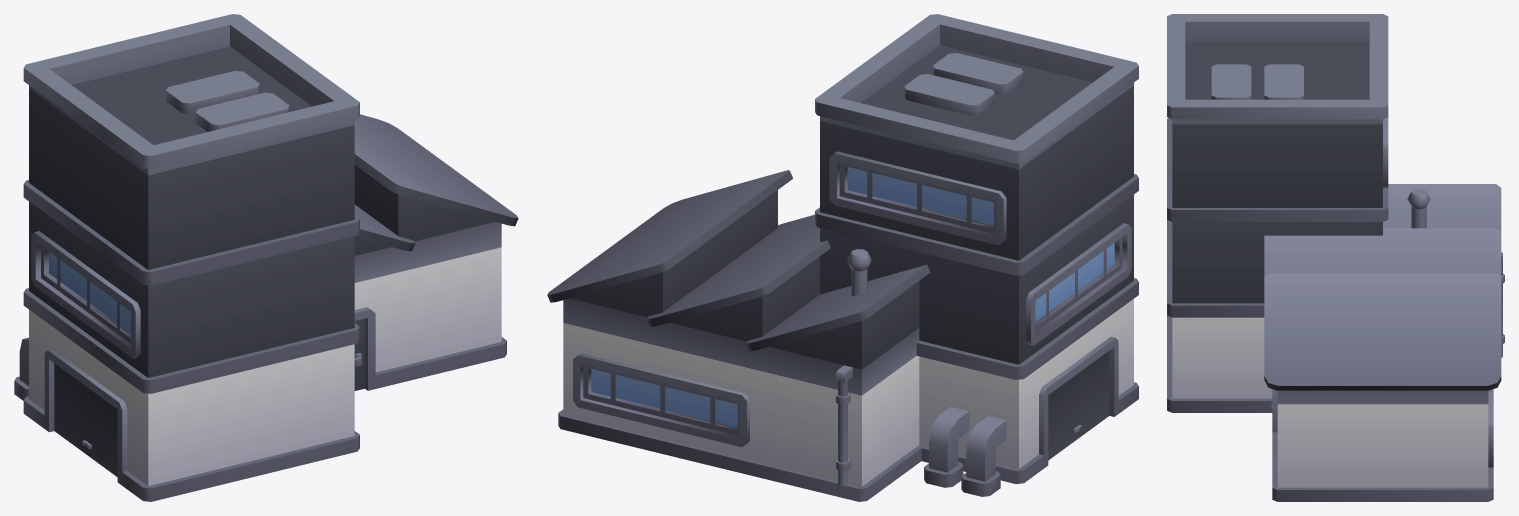
File: building-g.glb
3 views of the same model, side by side, from view 1: azimuth 30°, elevation 25°; view 2: azimuth 150°, elevation 25°; view 3: azimuth 270°, elevation 25° (orthographic). The views are drawn at different scales.
Visible parts, largest first — view 1: building-g; view 2: building-g; view 3: building-g.
Boxes of the visible parts, x1,y1,x2,y2 form: building-g: (14, 14, 518, 501); building-g: (547, 14, 1138, 501); building-g: (1167, 14, 1504, 501).
Size of the model in its own units: 1.68 by 1.28 by 1.28.
Materials: 1 (1 with a texture image).
